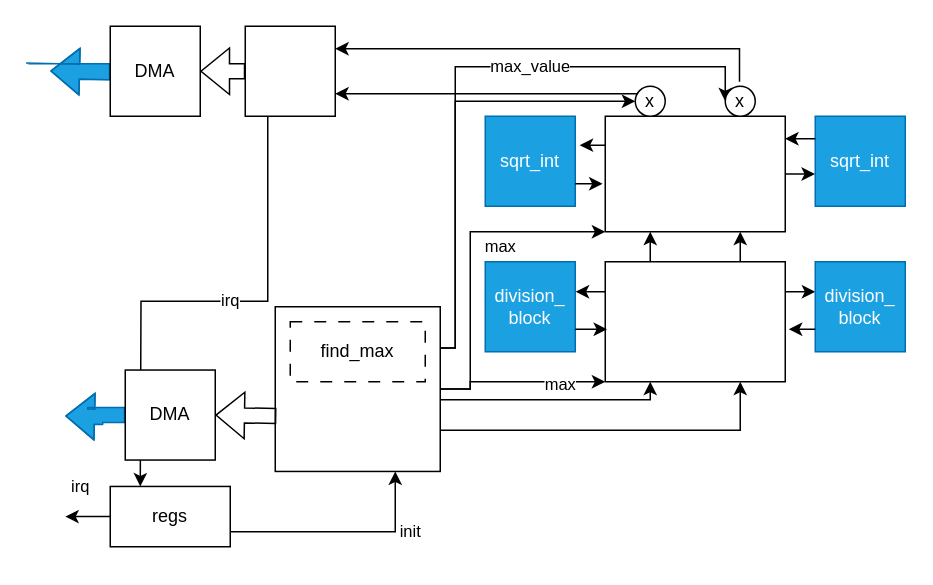
Some shapes in this 933 by 585 pixel diagram are drawn without their labels. The box of each missing label's shape, as (x1, y1, x2, y2) in pixels:
controller: (274, 305, 440, 471)
divider: (604, 260, 785, 382)
saver: (244, 25, 335, 116)
sqrt: (604, 115, 785, 232)
